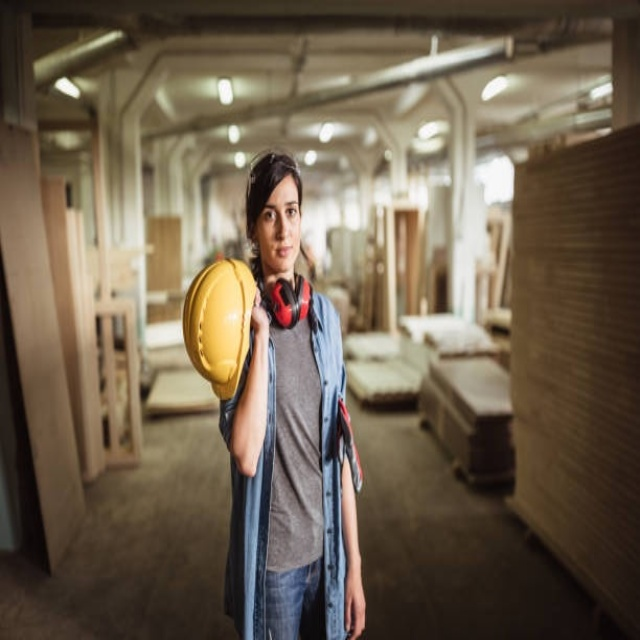Sin_gafas: (261, 198, 300, 224)
Sin_guantes: (341, 555, 370, 634)
Sin_mascara: (271, 238, 300, 268)
